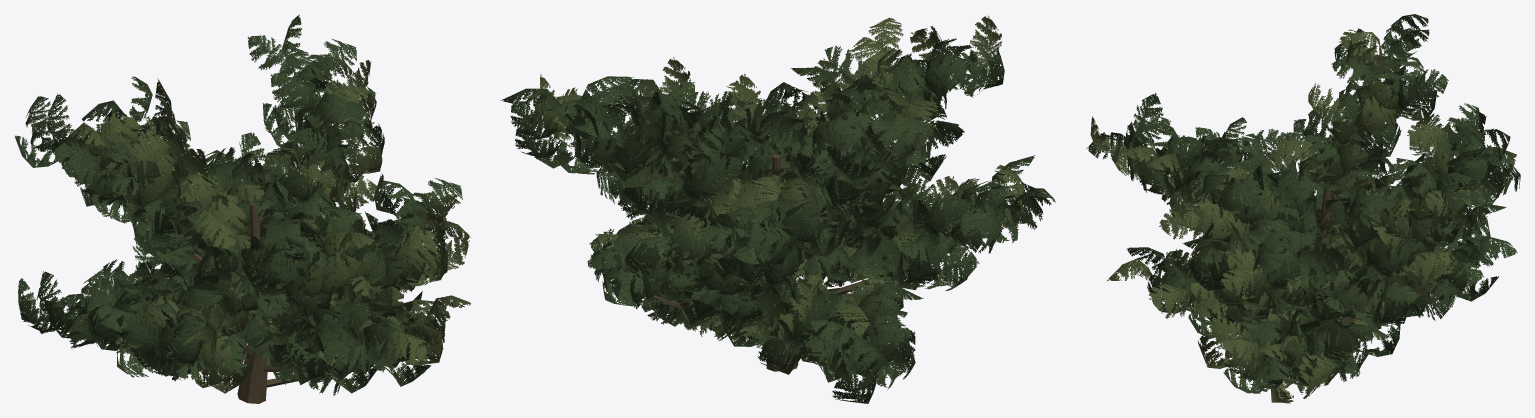
File: SM_CN_Juniper_A.glb
The picture shows the model from 3 angles, left to right: view 1: azimuth 30°, elevation 25°; view 2: azimuth 150°, elevation 25°; view 3: azimuth 270°, elevation 25°; orthographic projection. The views are drawn at different scales.
Parts seen in each view (by area): view 1: SM_CN_Juniper_A; view 2: SM_CN_Juniper_A; view 3: SM_CN_Juniper_A.
Part boxes in pixels (x1=…): SM_CN_Juniper_A: x1=15, y1=14, x2=470, y2=403; SM_CN_Juniper_A: x1=501, y1=15, x2=1055, y2=403; SM_CN_Juniper_A: x1=1086, y1=14, x2=1520, y2=403.
Size of the model in its own units: 2.19 by 1.65 by 2.35.
Materials: 2 (2 with a texture image).
